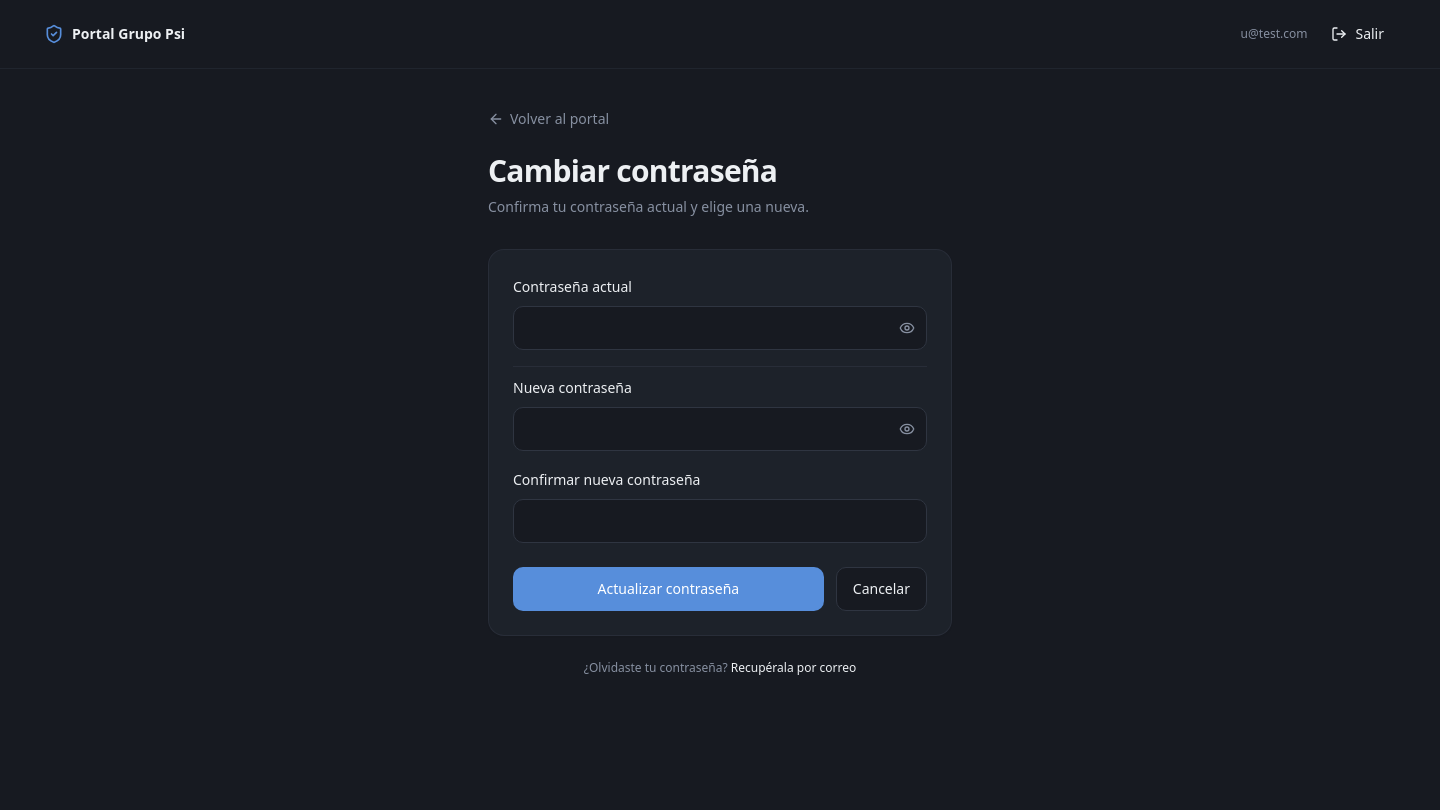
Test: ChangePassword flow (integration) › aborta si la contraseña actual es incorrecta
The image size is (1440, 810).
Type "OldPass123" into the password field labelled "Contraseña actual" at (720, 328), box [513, 306, 927, 350]
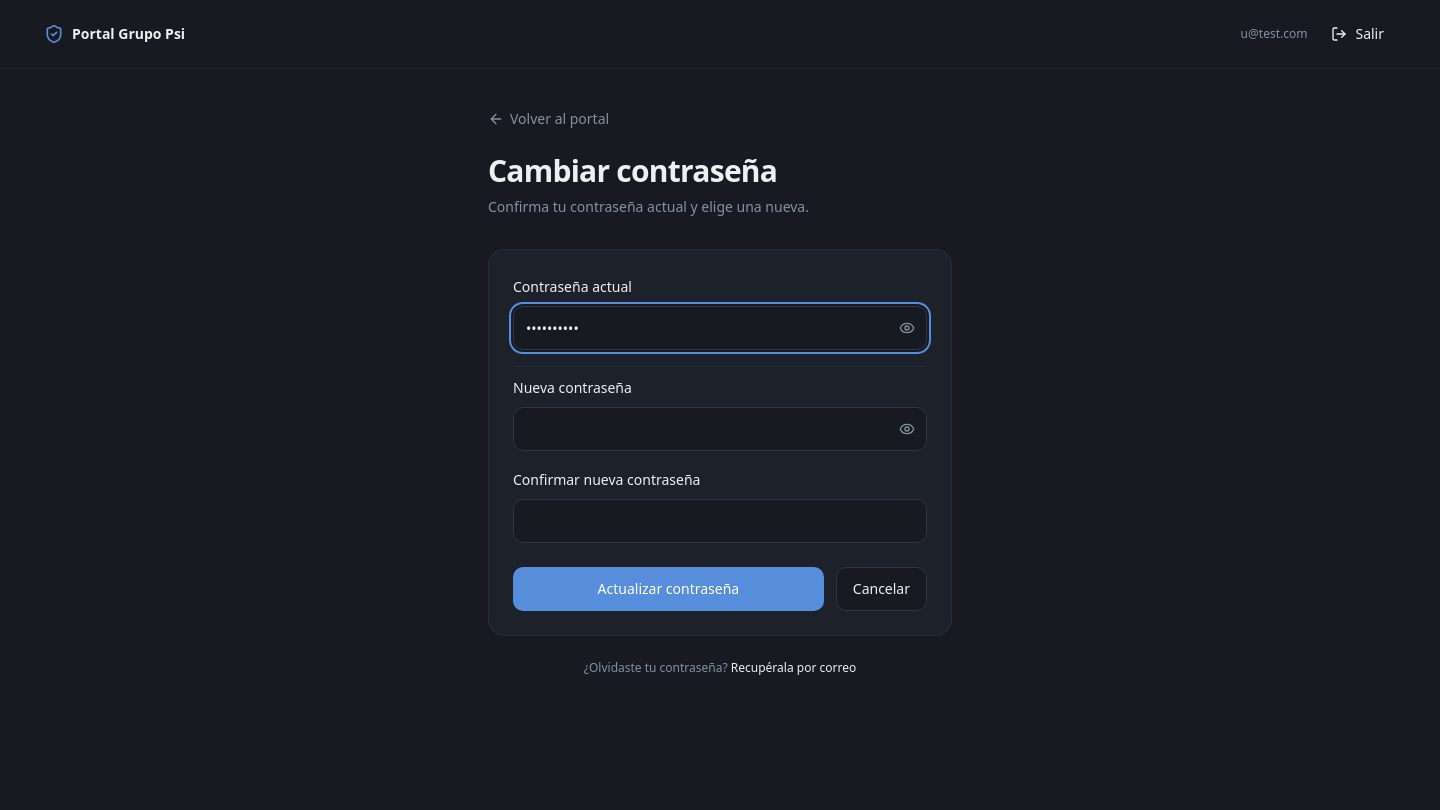
Type "NewPass456" into the password field labelled "Nueva contraseña" at (720, 429), box [513, 407, 927, 451]
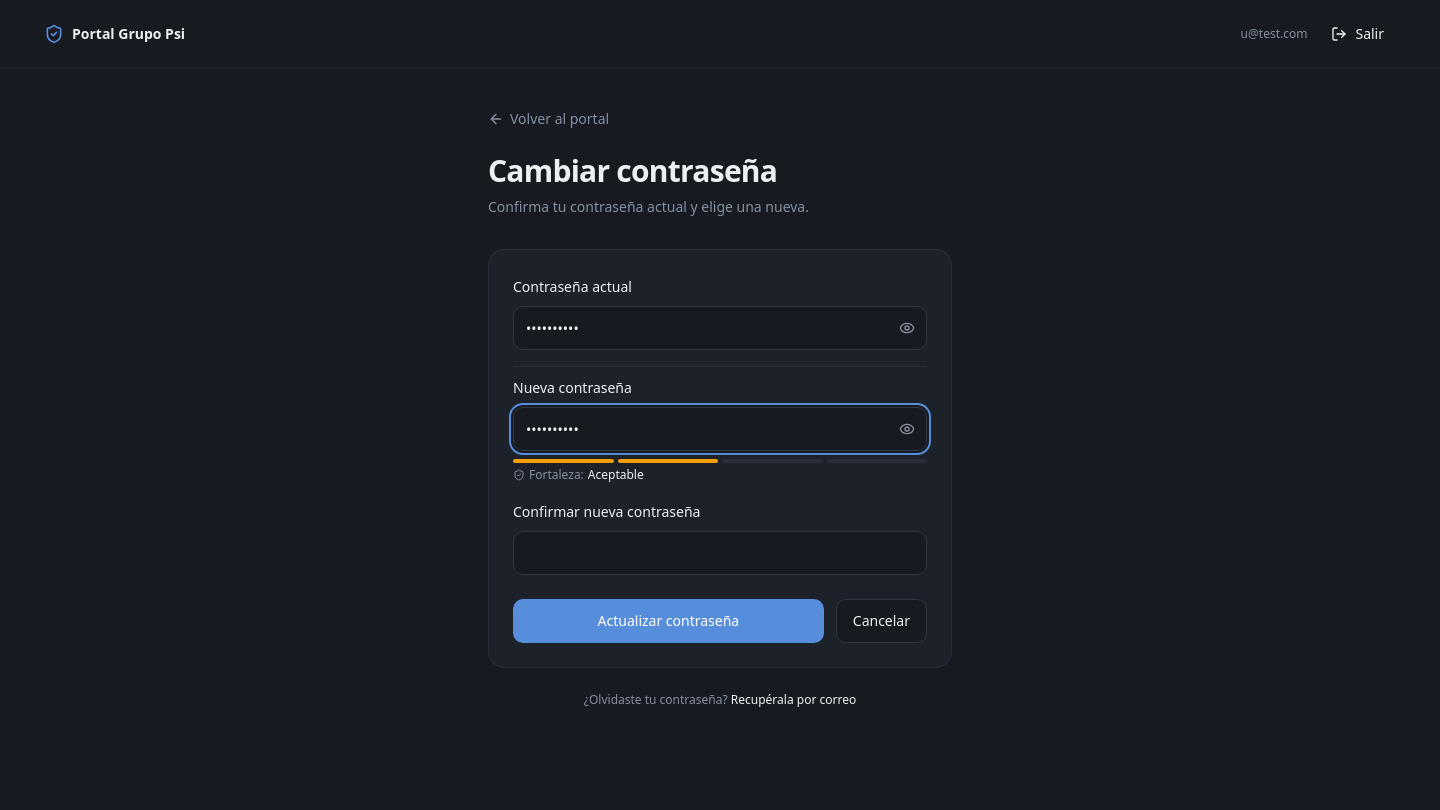
Type "NewPass456" into the password field labelled "Confirmar nueva contraseña" at (720, 553), box [513, 531, 927, 575]
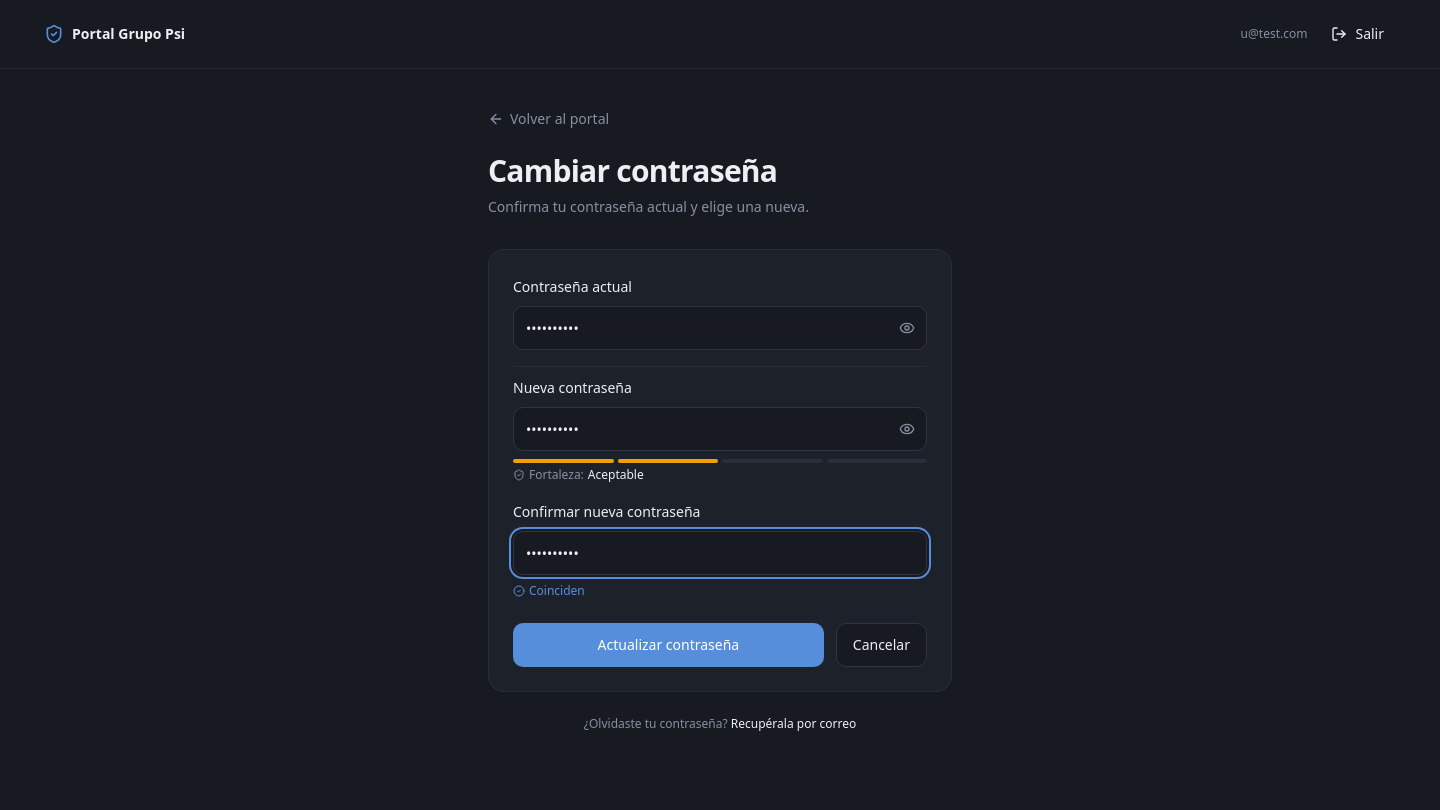
Click the button "Actualizar contraseña" at (668, 645), box [513, 623, 824, 667]
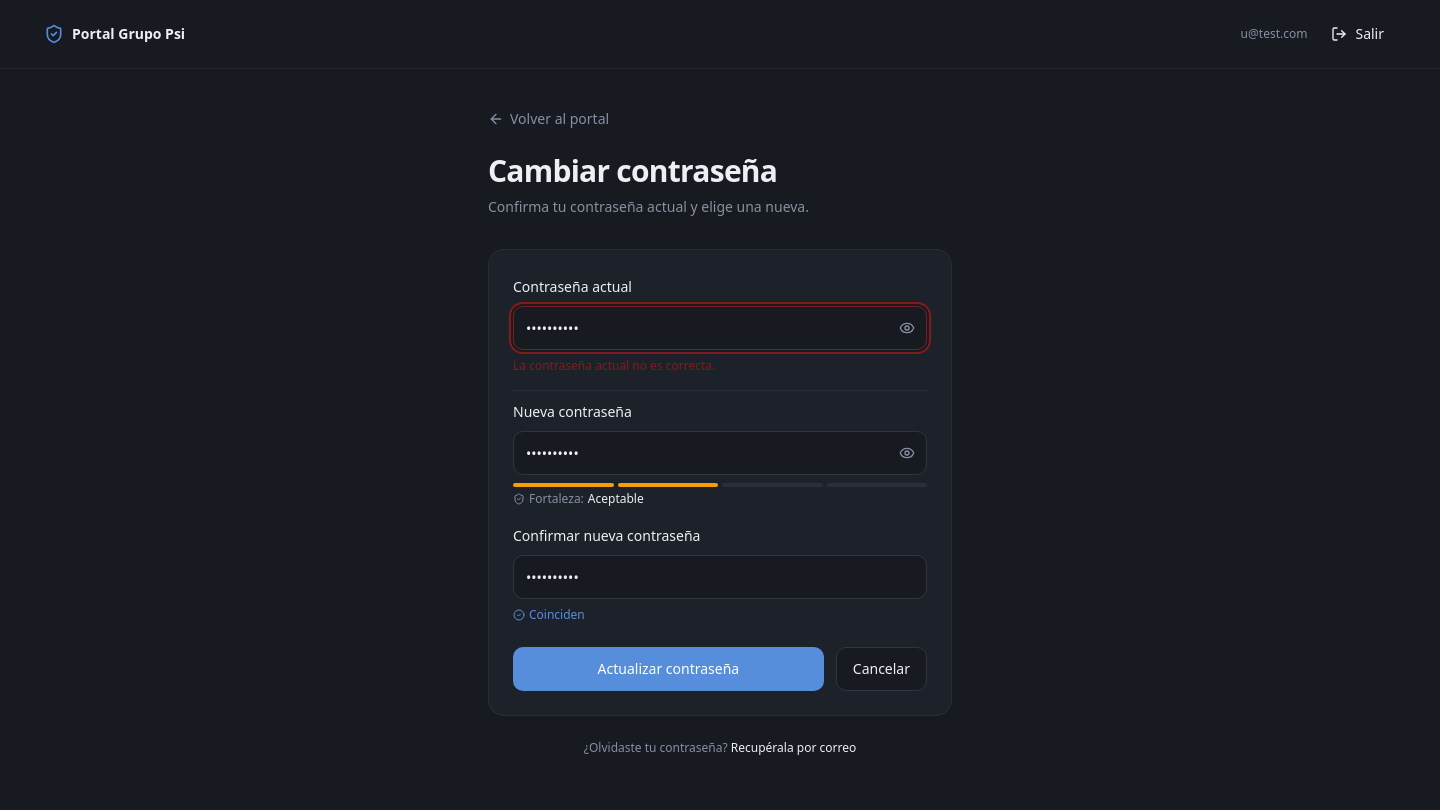
Check: the text "La contraseña actual no es correcta." is shown, box [513, 357, 715, 374]
